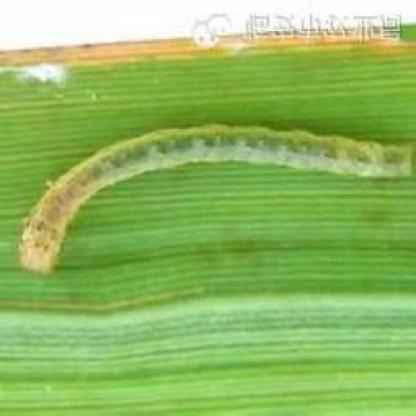leaf-folder: (15, 110, 416, 287)
